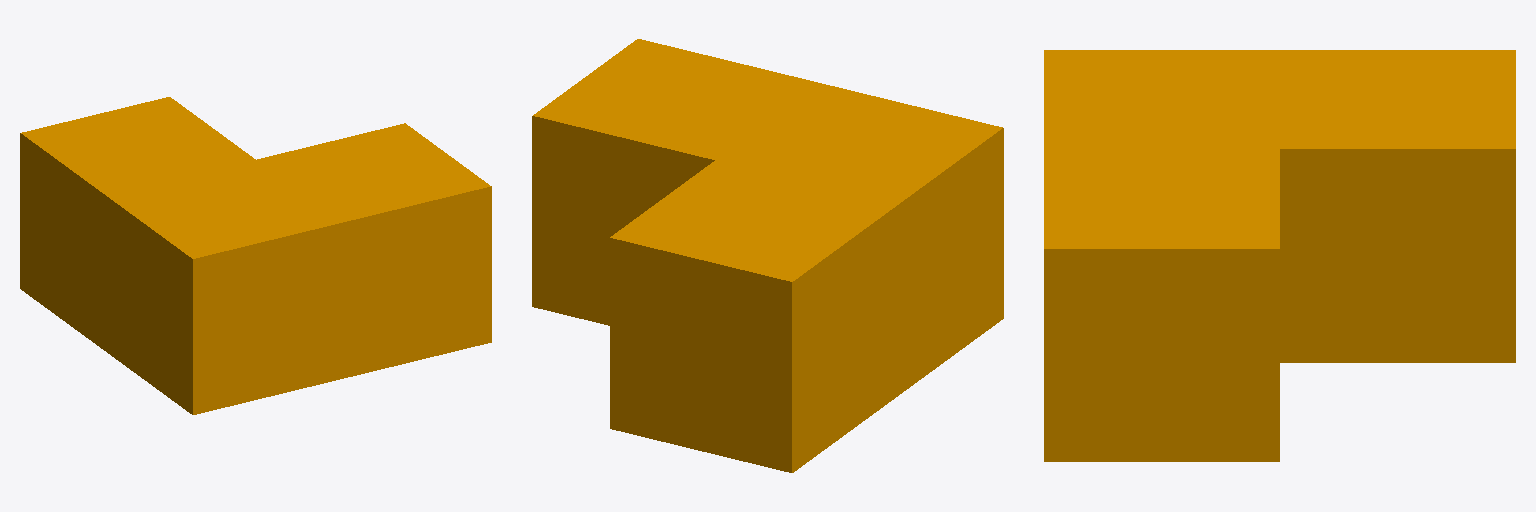
The robot description file, URDF, robot "l_shape_robot":
<robot name="l_shape_robot">
  <link name="l_shape_link">
    <inertial>
      <origin xyz="0.833 0.833 0.5" rpy="0 0 0"/> <!-- Calculated center of mass -->
      <mass value="3"/> <!-- Total volume, assuming density 1 -->
      <inertia ixx="0.1" ixy="0" ixz="0" iyy="0.1" iyz="0" izz="0.1"/> <!-- Placeholder inertia -->
    </inertial>
    <visual>
      <geometry>
        <mesh filename="l_shape.obj" scale="1 1 1"/>
      </geometry>
    </visual>
    <collision>
      <geometry>
        <mesh filename="l_shape.obj" scale="1 1 1"/>
      </geometry>
    </collision>
  </link>
</robot>

--- What the picture shows (computed from the rendered views, not written in the file) ---
3 views of the same robot in one strip: view 1: azimuth 30°, elevation 25°; view 2: azimuth 150°, elevation 25°; view 3: azimuth 270°, elevation 25° (orthographic).
Model l_shape_robot with 1 links and 0 joints (none), rooted at l_shape_link, posed all joints at 0.
Visible links, largest first — view 1: l_shape_link; view 2: l_shape_link; view 3: l_shape_link.
Boxes of the visible links, box(x1,y1,x2,y2) form: l_shape_link: box(20, 97, 491, 414); l_shape_link: box(532, 39, 1003, 472); l_shape_link: box(1044, 50, 1515, 461).
Size in the robot's own frame: 2 by 2 by 1 metres.
1 mesh visuals loaded from 1 distinct referenced files (1 OBJ).